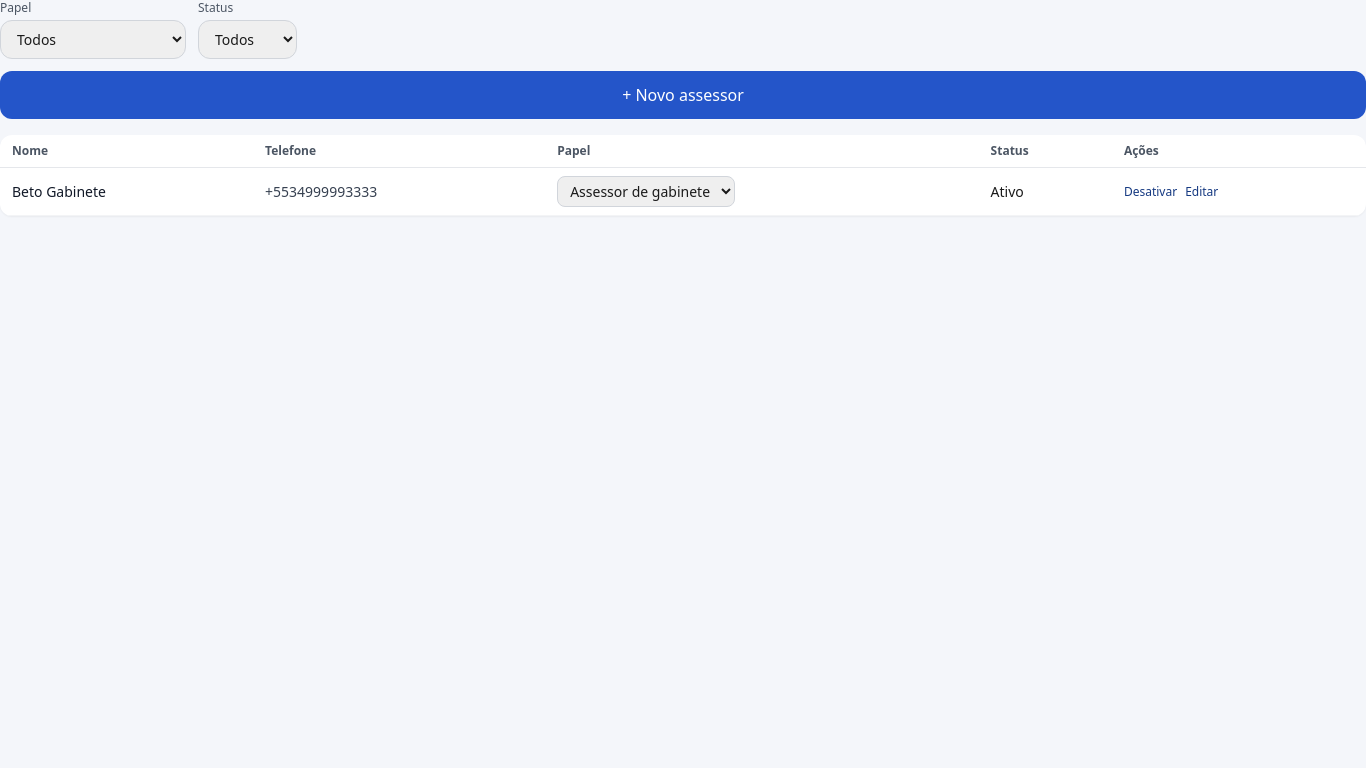
ListaAssessores — assessor de gabinete › abre o modal de edição pré-preenchido ao clicar em Editar
The width and height of the screenshot is (1366, 768).
Expected: the text "Beto Gabinete" is shown, x1=0 y1=168 x2=253 y2=216
Click the button with aria-label "Editar Beto Gabinete" at (1202, 192), box x1=1185 y1=184 x2=1218 y2=200
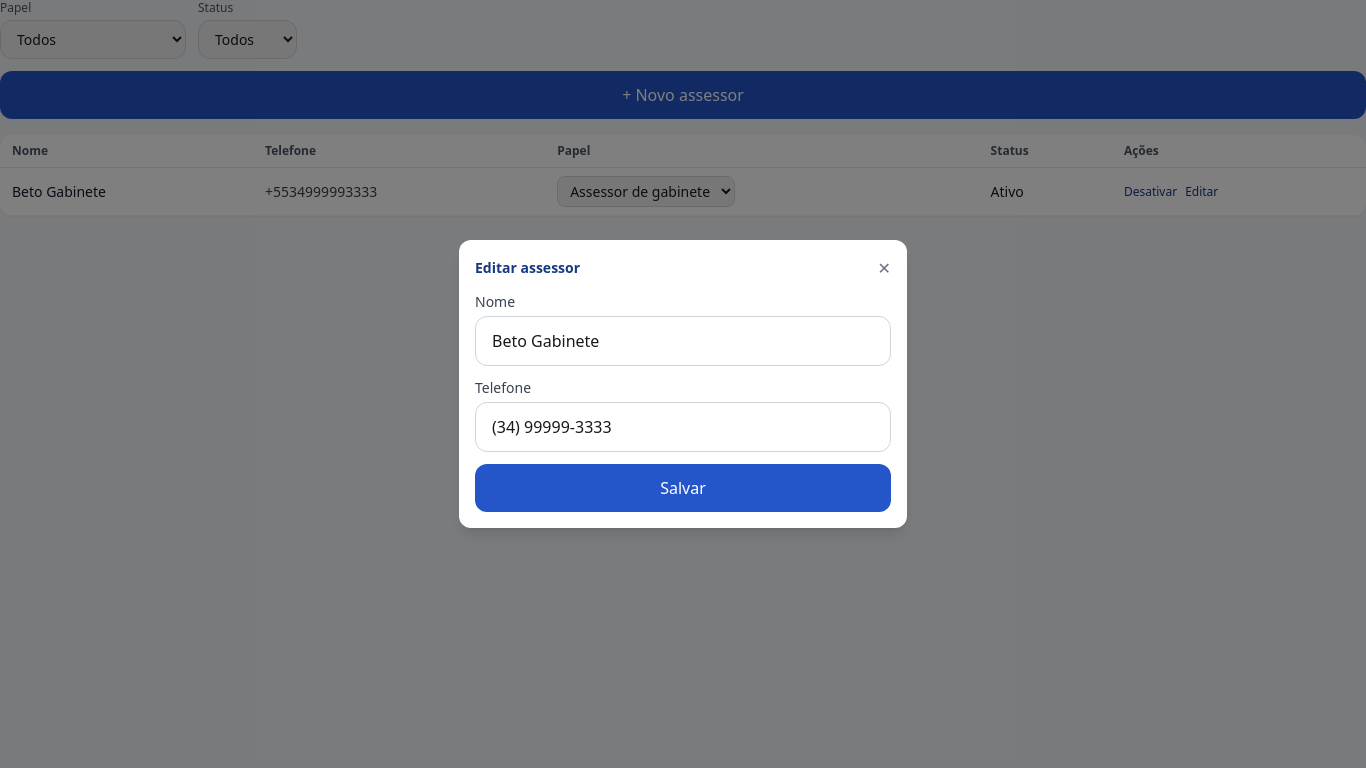
Expected: the heading "Editar assessor" is shown, x1=475 y1=258 x2=580 y2=278
Expected: the field labelled "Nome" holds "Beto Gabinete", x1=475 y1=316 x2=891 y2=366
